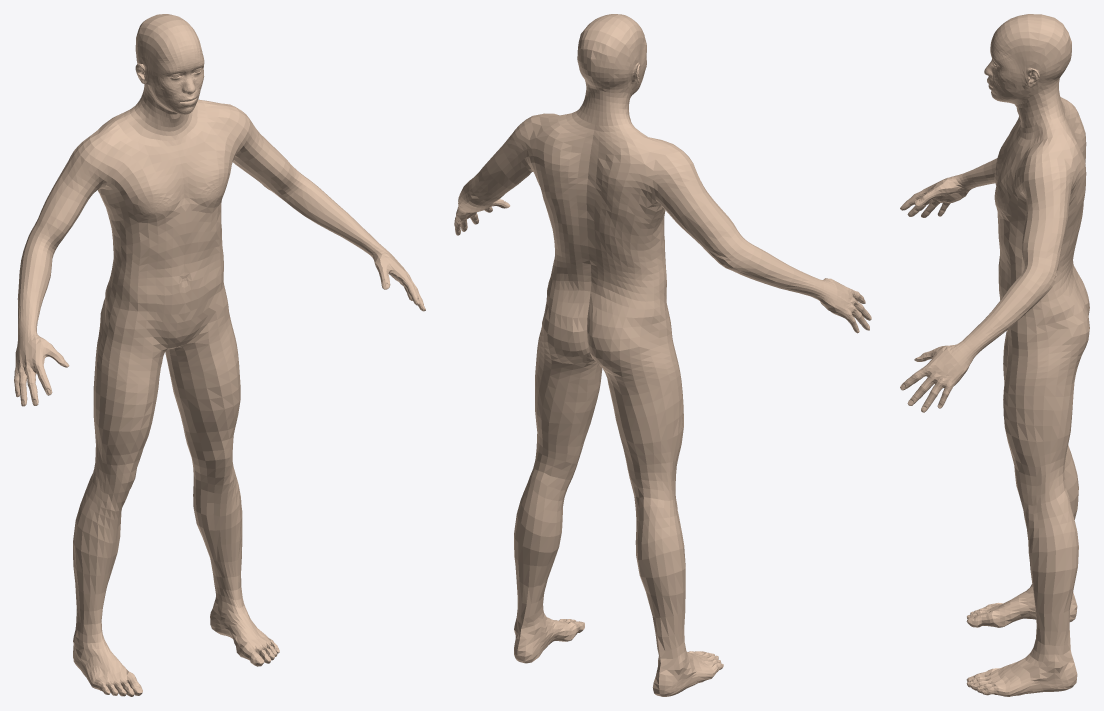
The model's file is male-young-average-strong.glb.
The picture shows the model from 3 angles, left to right: view 1: azimuth 30°, elevation 25°; view 2: azimuth 150°, elevation 25°; view 3: azimuth 270°, elevation 25°; orthographic projection.
Parts seen in each view (by area): view 1: world; view 2: world; view 3: world.
Part boxes in pixels (x1,y1,x2,y2): world: [14, 14, 425, 696]; world: [454, 14, 871, 696]; world: [900, 14, 1089, 696].
Bounding box in the file's own units: 1.24 × 1.89 × 0.5088.
